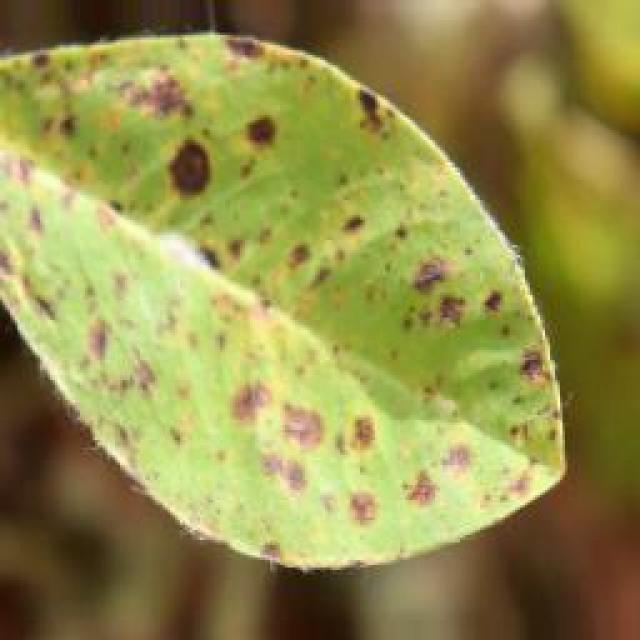Yellowish: (0, 4, 583, 574)
